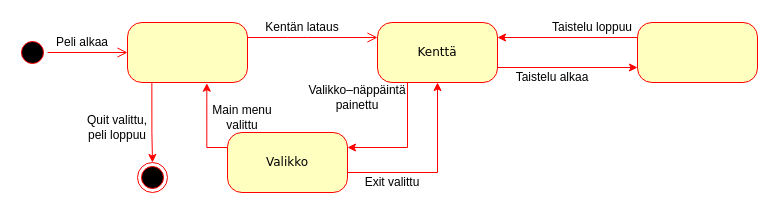
This 775x210 diagram has some shape labels left out. Here are the shapes that lost their labels. From the top down, the box of each, then its label:
(126, 22, 248, 82): Päävalikko
(636, 22, 758, 82): Taistelu
